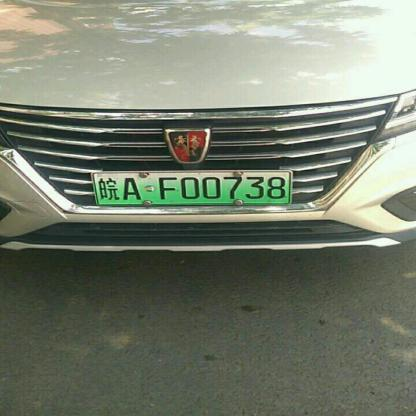lp: (91, 170, 290, 204)
